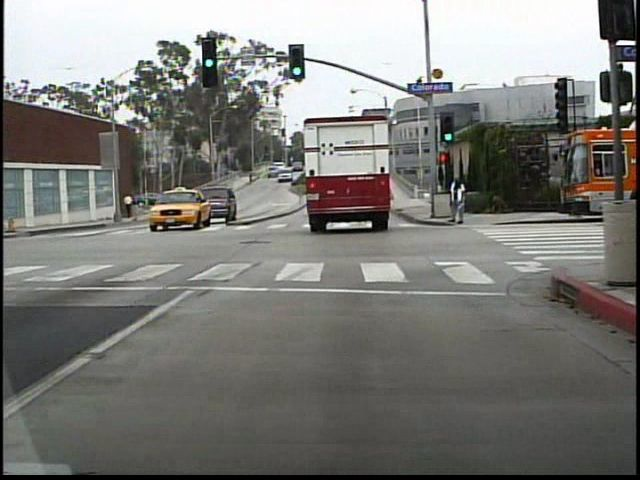person: (444, 175, 469, 228), (122, 188, 139, 220)
